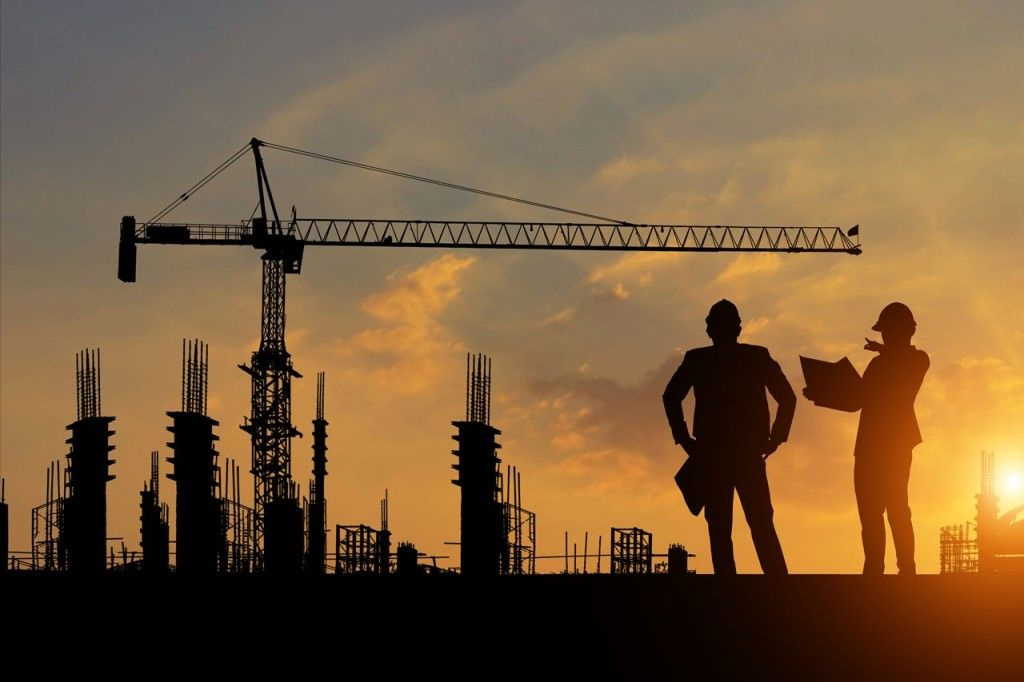crane: (78, 107, 933, 328)
hardhat: (693, 300, 767, 329), (871, 301, 926, 328)
no_safety_vest: (660, 341, 795, 449), (852, 350, 928, 452)
person: (647, 292, 823, 588), (805, 293, 955, 578)
